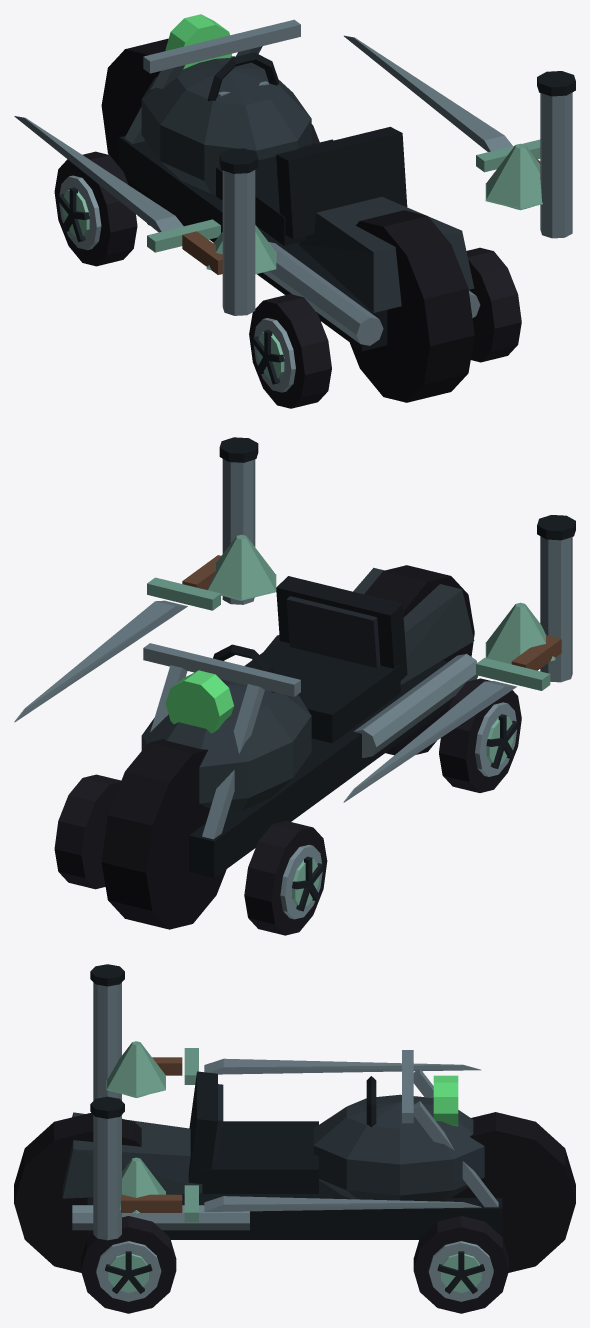
File: kart.glb
3 renders of one model, top to bottom at view 1: azimuth 30°, elevation 25°; view 2: azimuth 150°, elevation 25°; view 3: azimuth 270°, elevation 25°, orthographic. The views are drawn at different scales.
Parts seen in each view (by area): view 1: identity-motorbike-motorbike-tank-and-fork, identity-motorbike-driver-cockpit, identity-motorbike-motif-exhaust, identity-motorbike-motif-swords, wheel-rear-left, wheel-front-left, wheel-rear-right, identity-motorbike-motif-gems; view 2: identity-motorbike-motorbike-tank-and-fork, identity-motorbike-driver-cockpit, identity-motorbike-motif-swords, identity-motorbike-motif-exhaust, wheel-front-left, wheel-rear-left, identity-motorbike-motif-gems, wheel-front-right; view 3: identity-motorbike-motorbike-tank-and-fork, identity-motorbike-driver-cockpit, identity-motorbike-motif-swords, identity-motorbike-motif-exhaust, wheel-front-right, wheel-rear-right, identity-motorbike-motif-gems.
Part boxes in pixels (x1,y1,x2,y2): identity-motorbike-motorbike-tank-and-fork: [101, 14, 480, 402]; identity-motorbike-driver-cockpit: [207, 52, 407, 245]; identity-motorbike-motif-exhaust: [219, 71, 575, 315]; identity-motorbike-motif-swords: [14, 35, 540, 274]; wheel-rear-left: [249, 294, 331, 408]; wheel-front-left: [54, 151, 137, 266]; wheel-rear-right: [466, 247, 521, 362]; identity-motorbike-motif-gems: [206, 143, 542, 274]; identity-motorbike-motorbike-tank-and-fork: [101, 565, 477, 929]; identity-motorbike-driver-cockpit: [213, 576, 407, 743]; identity-motorbike-motif-swords: [14, 555, 561, 802]; identity-motorbike-motif-exhaust: [219, 437, 575, 682]; wheel-front-left: [244, 821, 327, 935]; wheel-rear-left: [439, 678, 521, 792]; identity-motorbike-motif-gems: [207, 534, 555, 664]; wheel-front-right: [54, 774, 120, 889]; identity-motorbike-motorbike-tank-and-fork: [14, 1050, 575, 1272]; identity-motorbike-driver-cockpit: [188, 1071, 376, 1193]; identity-motorbike-motif-swords: [121, 1048, 481, 1222]; identity-motorbike-motif-exhaust: [90, 964, 124, 1240]; wheel-front-right: [413, 1216, 508, 1313]; wheel-rear-right: [81, 1216, 176, 1313]; identity-motorbike-motif-gems: [106, 1041, 165, 1214].
Bounding box in the file's own units: 2.04 × 1.33 × 2.94.
